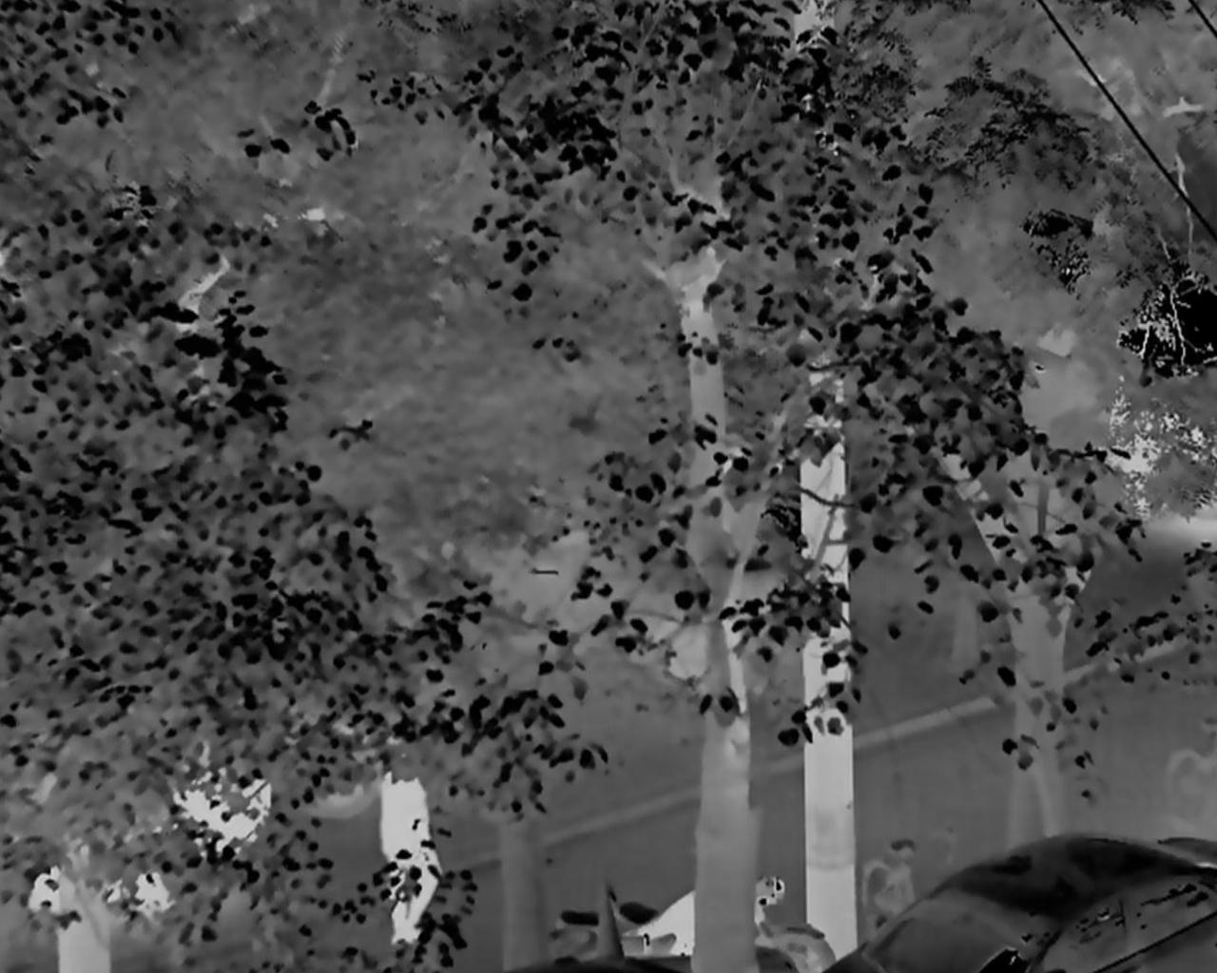person: (379, 754, 445, 948)
